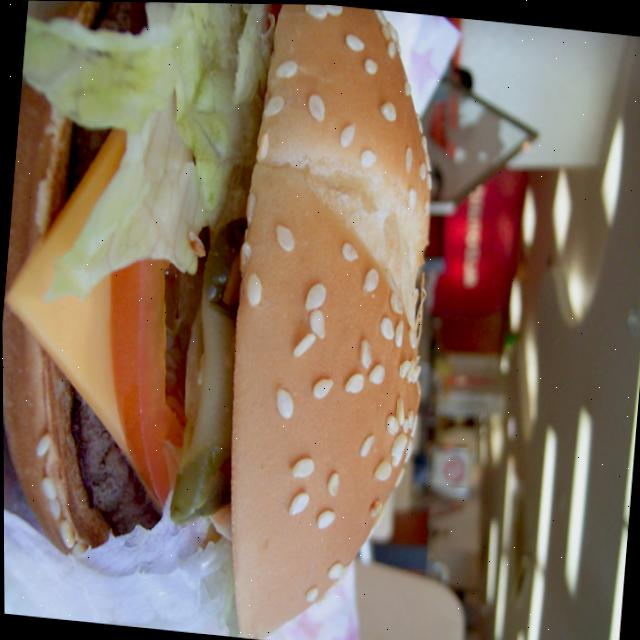汉堡快餐: (0, 0, 464, 640)
